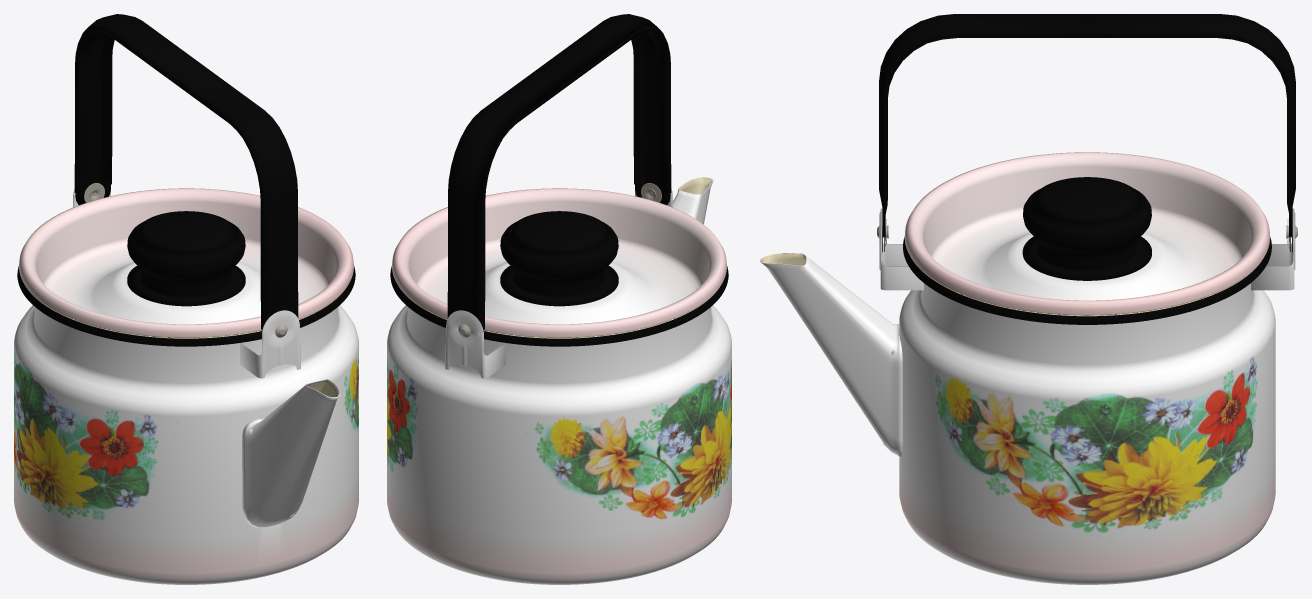
Rendered from Chaynik.dae.
3 views of the same model, side by side, from view 1: azimuth 30°, elevation 25°; view 2: azimuth 150°, elevation 25°; view 3: azimuth 270°, elevation 25° (orthographic). The views are drawn at different scales.
Visible parts, largest first — view 1: Chaynik, Chaynik-Krishka, Chaynik-Ruchka; view 2: Chaynik, Chaynik-Krishka, Chaynik-Ruchka; view 3: Chaynik, Chaynik-Krishka, Chaynik-Ruchka.
Boxes of the visible parts, x1,y1,x2,y2 form: Chaynik: (14,189,358,584); Chaynik-Krishka: (19,188,353,338); Chaynik-Ruchka: (74,14,298,337); Chaynik: (387,177,731,584); Chaynik-Krishka: (392,188,726,338); Chaynik-Ruchka: (447,14,671,337); Chaynik: (760,208,1295,584); Chaynik-Krishka: (904,152,1270,316); Chaynik-Ruchka: (877,14,1297,252).
Bounding box in the file's own units: 0.16 × 0.2286 × 0.2322.
5 materials, 2 textured.
